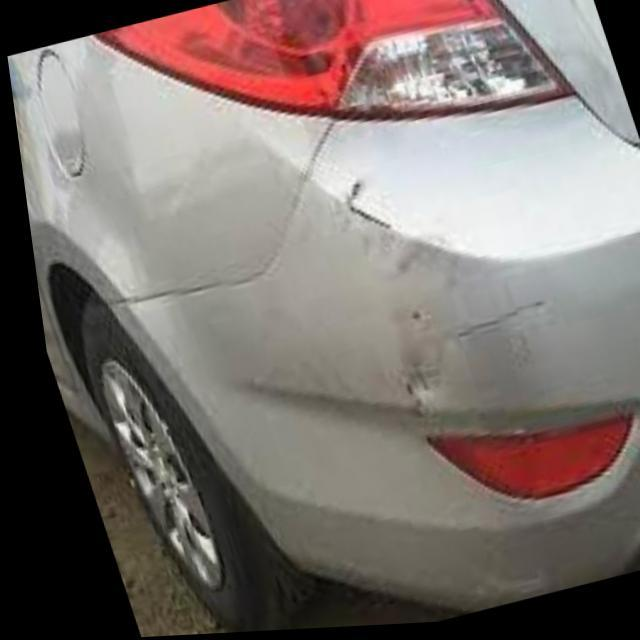dent: (324, 167, 567, 434)
